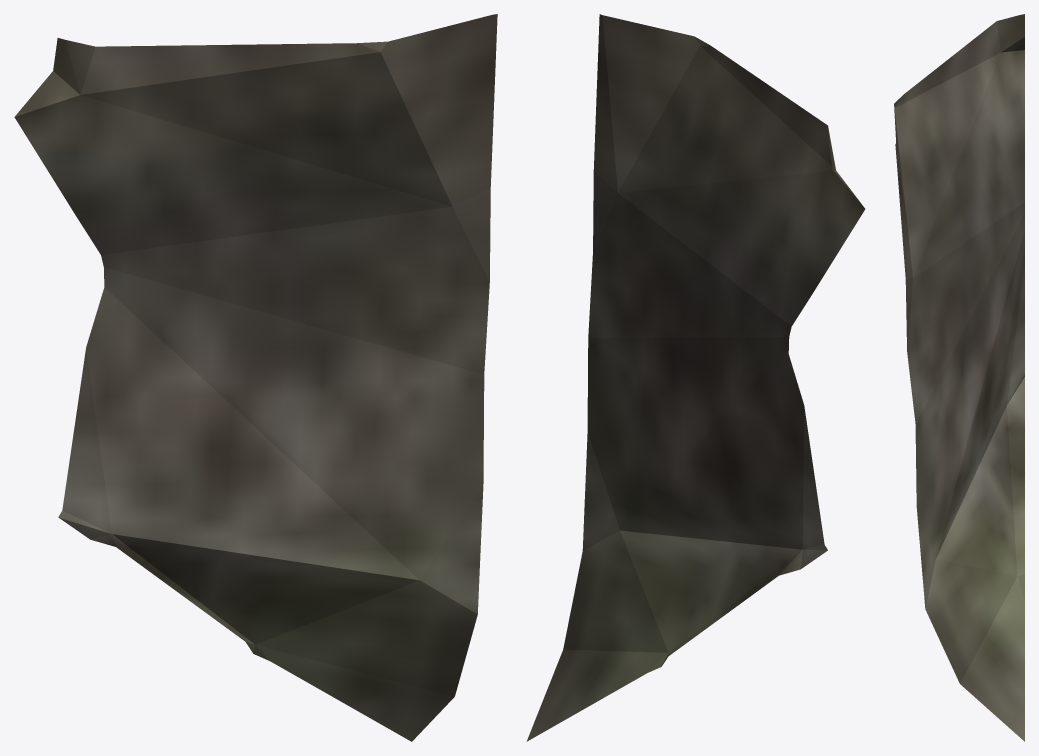
3 views of the same model, side by side, from view 1: azimuth 30°, elevation 25°; view 2: azimuth 150°, elevation 25°; view 3: azimuth 270°, elevation 25° (orthographic). The views are drawn at different scales.
Bounding box in the file's own units: 0.2792 × 0.5307 × 0.1054.
Materials: 1 (1 with a texture image).
